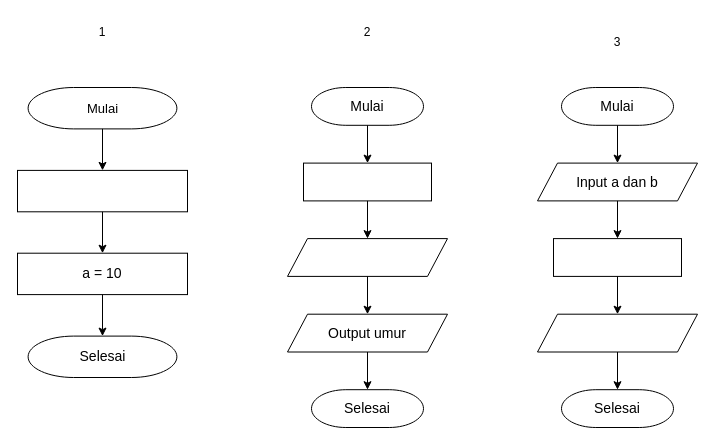
Image size: 715x445. Some labels were removed from this diagram. The shapes that lost their labels are listed below. From the top down, each one's centre as x and y in pixels, then its label:
At [102,190]: "Deklarasi variabel a".
At [367,181]: "Deklarasi variabel umur".
At [367,257]: "Input umur".
At [617,257]: "Hasil = a + b".
At [617,332]: "Tampilkan hasil".
